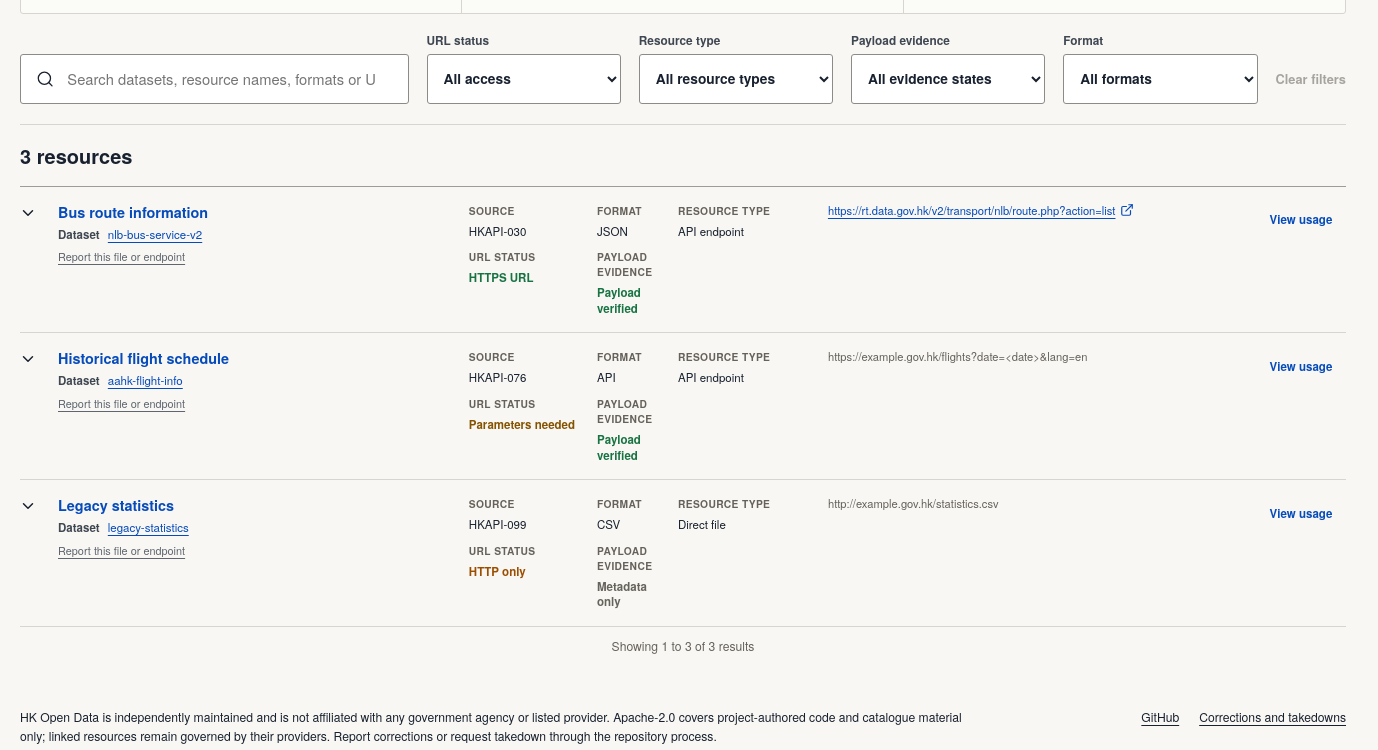
Test: provider-resource browser › generates copyable commands after required parameters are supplied
The image size is (1378, 750).
(page scrolled)
Click the button "View usage" in the row of "HKAPI-076" at (1301, 366), box [1256, 350, 1346, 384]
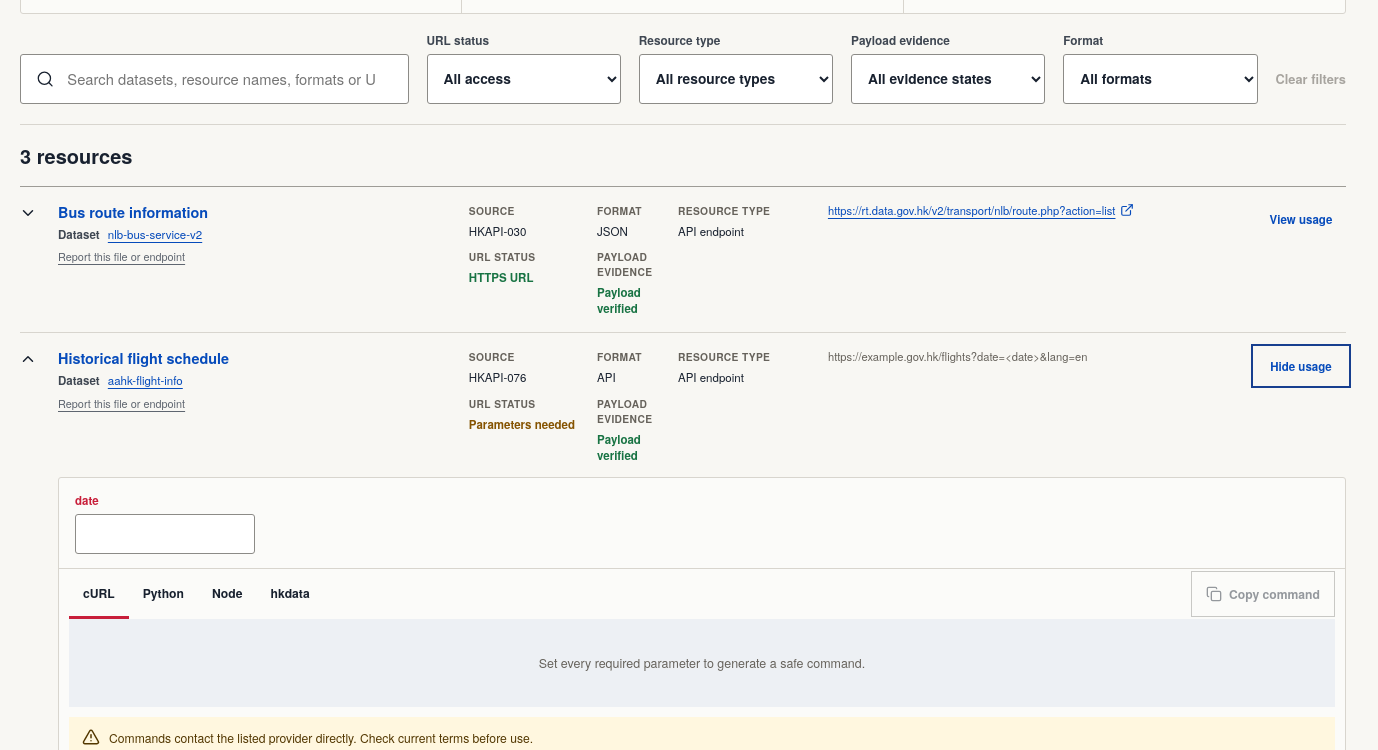
expect the text "Set every required parameter to generate a safe command." is shown: met, box [69, 619, 1335, 707]
expect the button "Copy command" is disabled: met, box [1191, 571, 1335, 617]
Type "2026-09-02" into the field labelled "date" at (165, 534), box [75, 514, 255, 554]
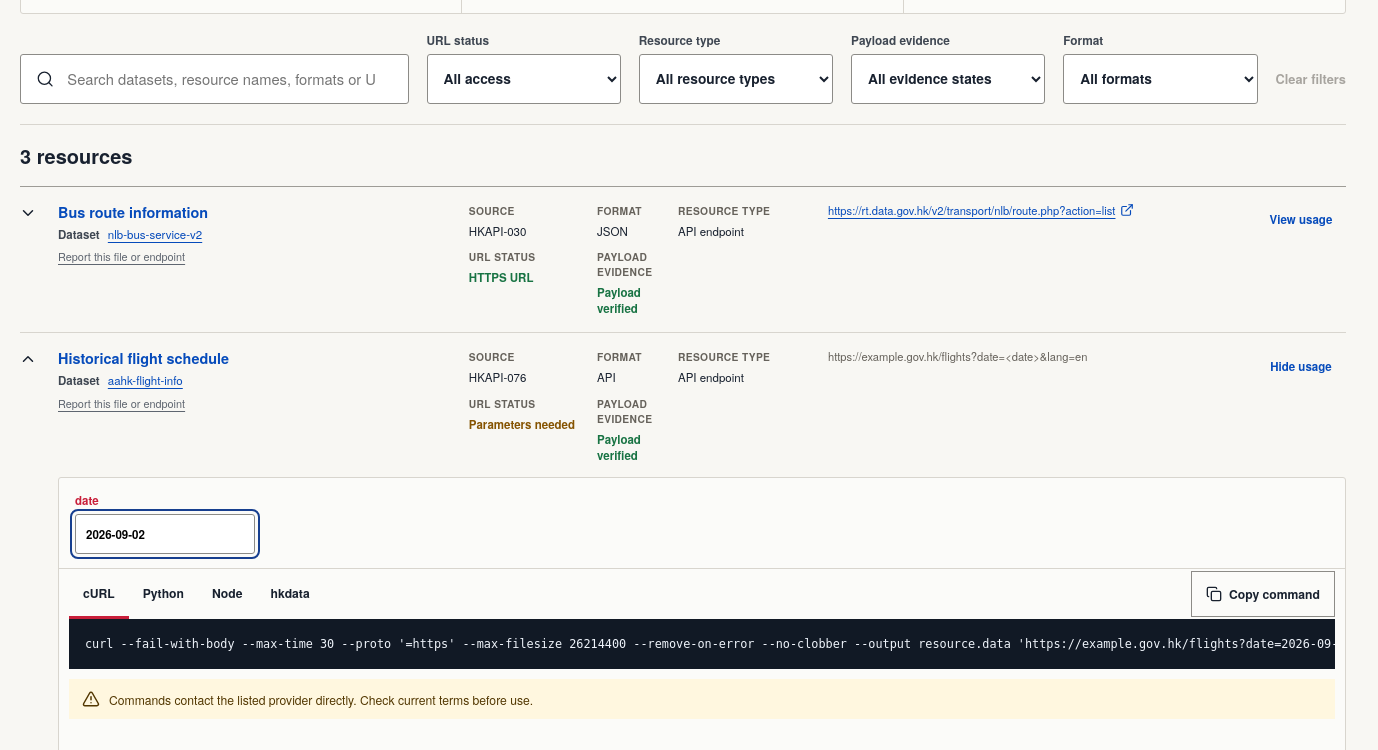
Click the tab "hkdata" at (290, 594), box [256, 569, 324, 619]
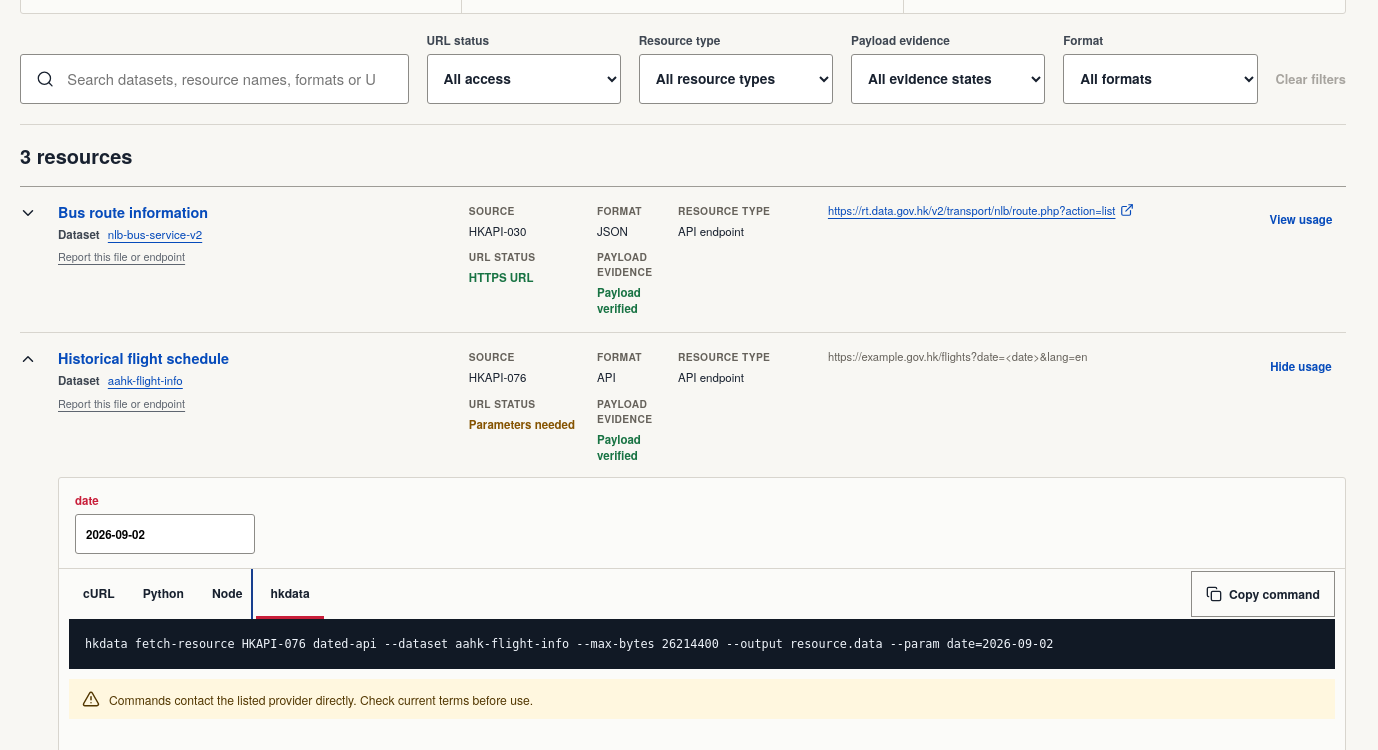
expect the text "hkdata fetch-resource" shows "HKAPI-076 dated-api": met, box [85, 637, 1054, 651]
expect the text "hkdata fetch-resource" shows "--dataset aahk-flight-info": met, box [85, 637, 1054, 651]
expect the text "hkdata fetch-resource" shows "--param date=2026-09-02": met, box [85, 637, 1054, 651]
Click the button "Copy command" at (1263, 594), box [1191, 571, 1335, 617]
(page scrolled)
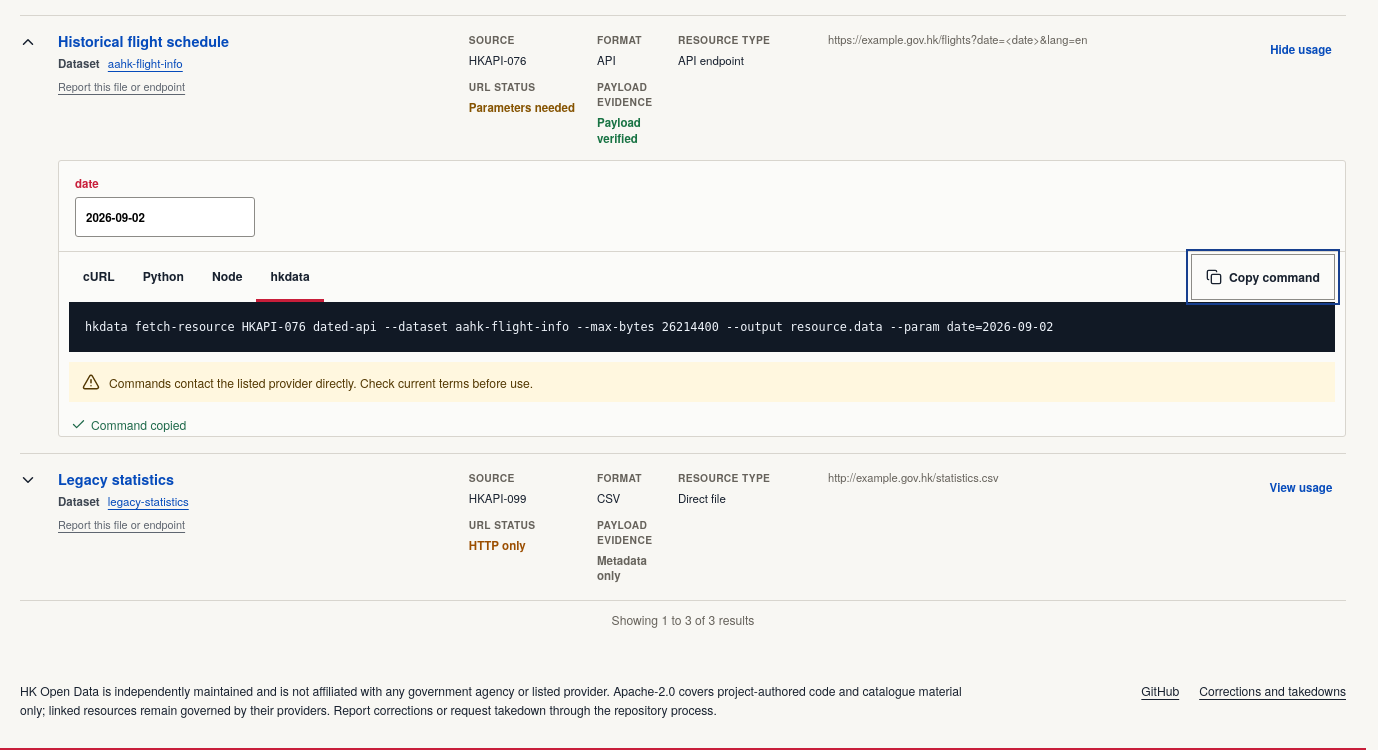
expect the message reads "Command copied": met, box [91, 416, 186, 433]
